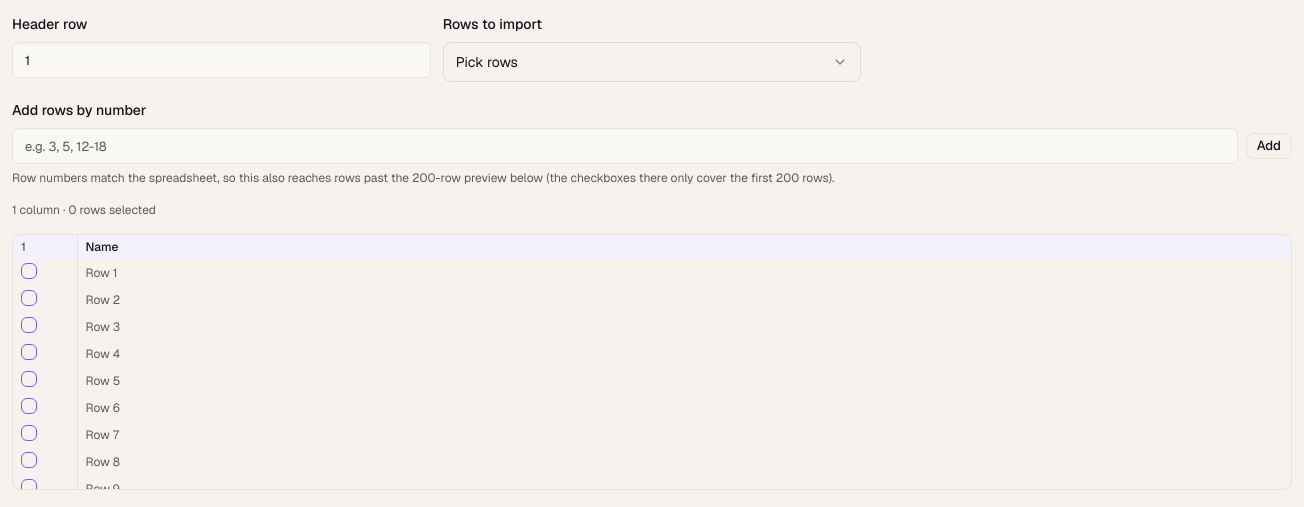
Scenario: RangeStep picked-row entry › reaches rows beyond the 200-row preview cap by number
expect the text "1 column · 0 rows selected" is shown: met, box [12,202,156,218]
Type "205, 210-212" into the field labelled "Add rows by number" at (625, 146), box [12,128,1238,164]
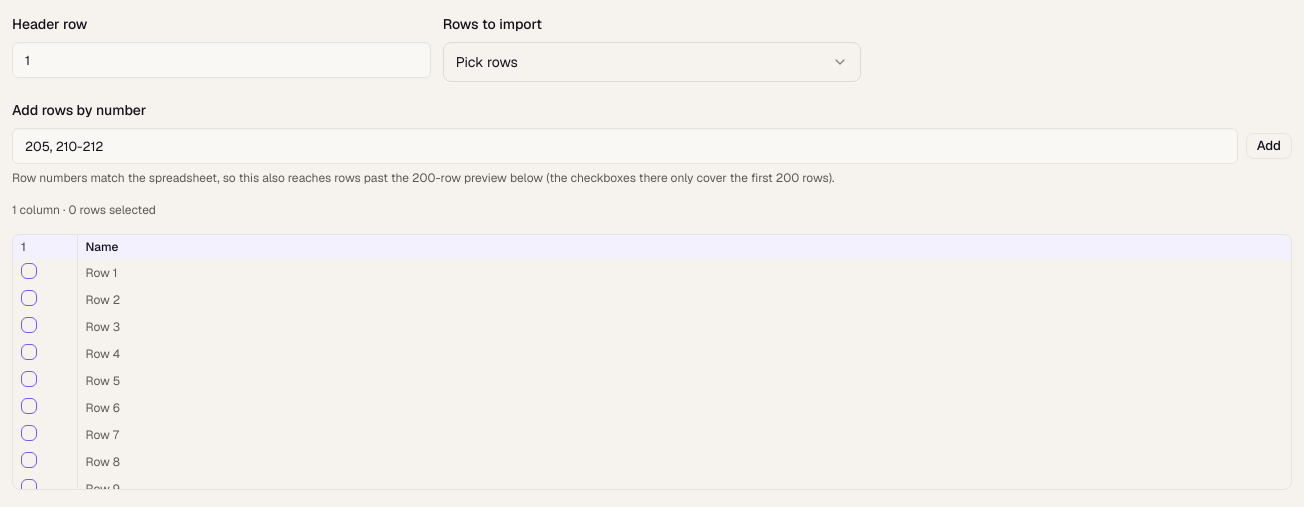
Click the button "Add" at (1269, 146), box [1246,133,1292,159]
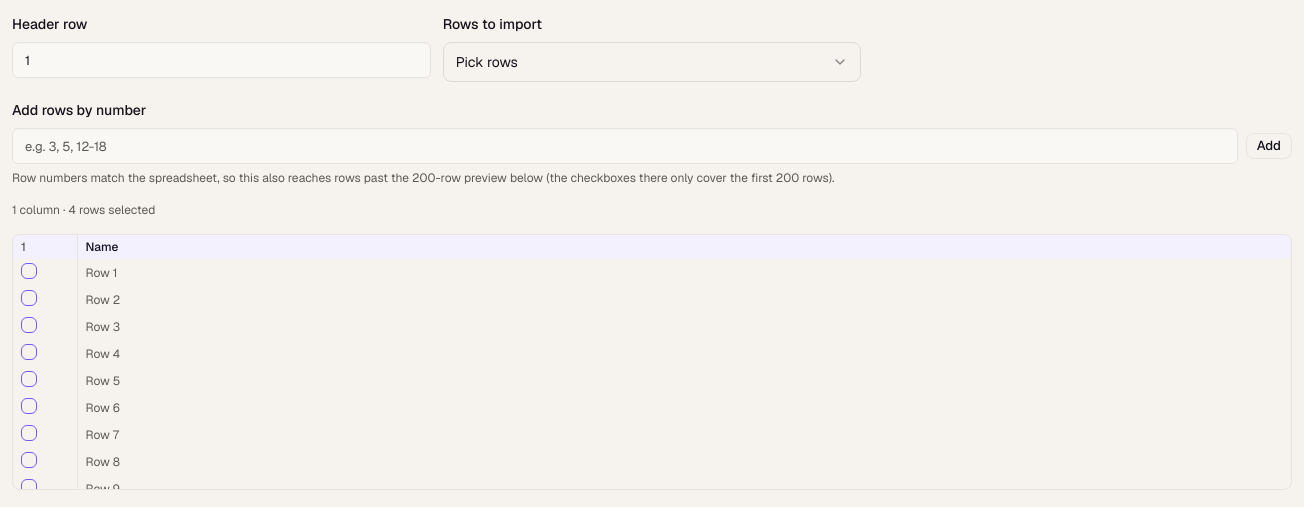
expect the text "1 column · 4 rows selected" is shown: met, box [12,202,155,218]
